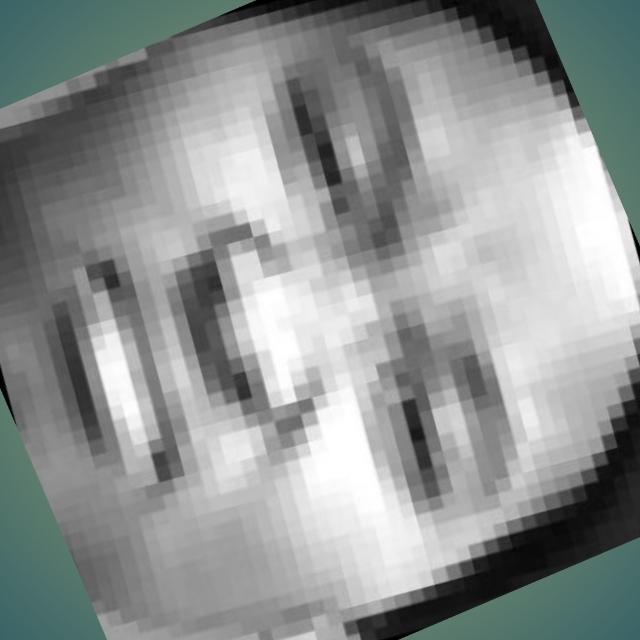Disgust: (42, 61, 614, 623)
